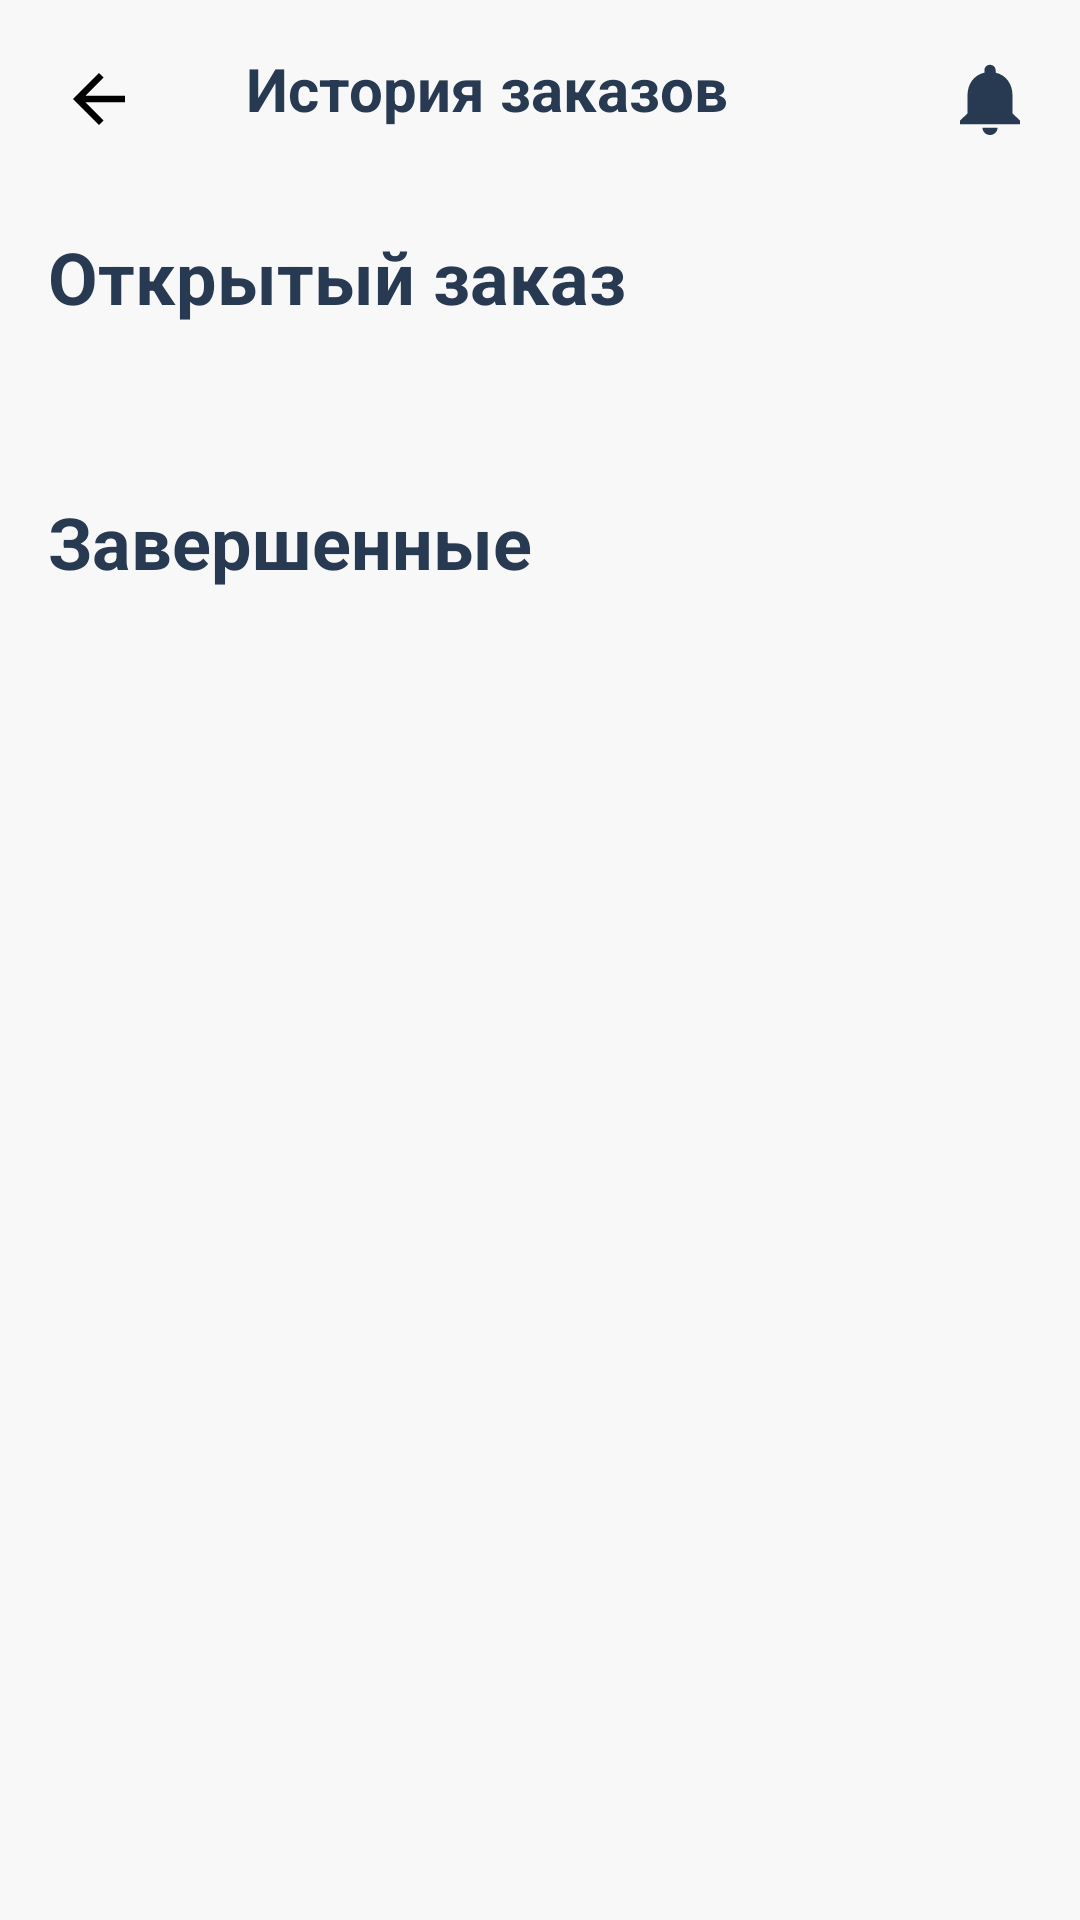

Named icons in this screenshot (1080*1920) and their bounding boxes, (x1, y1, x2, y2):
arrow back: (73, 73, 125, 125)
notification: (960, 64, 1020, 135)
